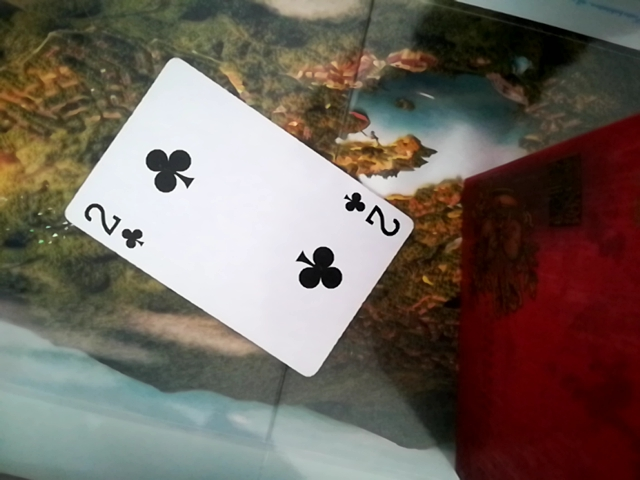mh 2: (63, 66, 416, 375)
